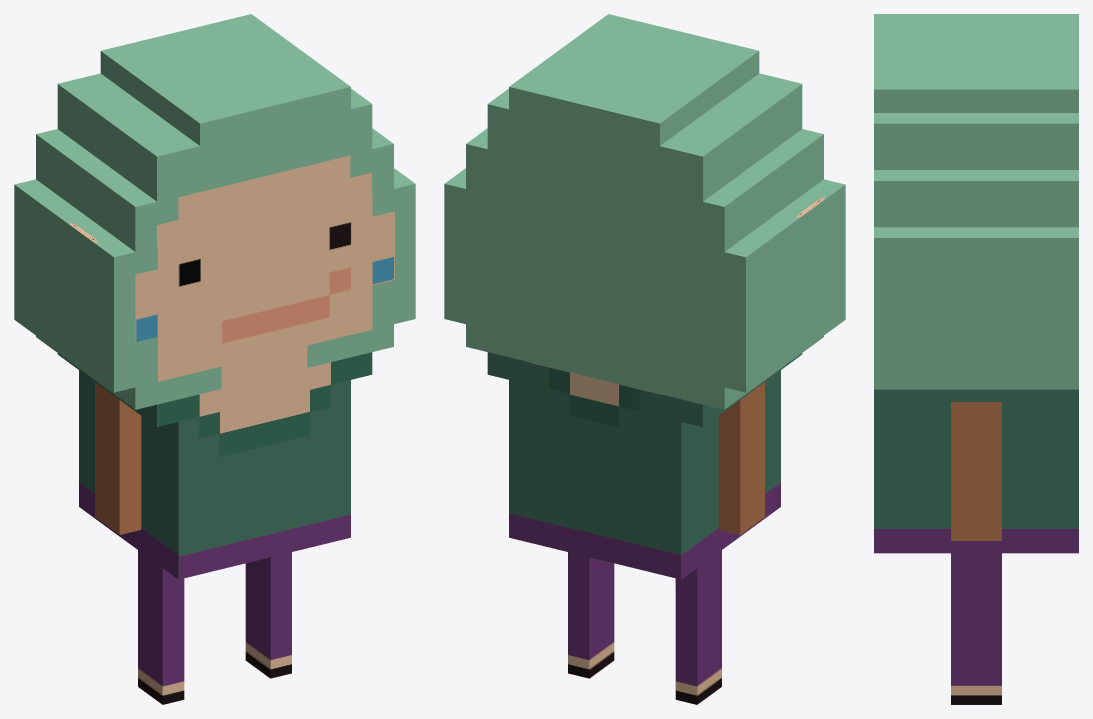
Rendered from avatar_import.obj.
3 views of the same model, side by side, from view 1: azimuth 30°, elevation 25°; view 2: azimuth 150°, elevation 25°; view 3: azimuth 270°, elevation 25° (orthographic). The views are drawn at different scales.
Visible parts, largest first — view 1: head_Plane, body_Plane.001, leg.r_Plane.002, arm.r_Plane.007, leg.l_Plane.005; view 2: head_Plane, body_Plane.001, leg.r_Plane.002, arm.r_Plane.007, leg.l_Plane.005; view 3: head_Plane, body_Plane.001, leg.l_Plane.005, arm.l_Plane.006.
Part boxes in pixels (x1,y1,x2,y2): head_Plane: (14, 14, 415, 409); body_Plane.001: (57, 352, 372, 579); leg.r_Plane.002: (138, 550, 184, 704); arm.r_Plane.007: (95, 382, 141, 534); leg.l_Plane.005: (245, 552, 291, 678); head_Plane: (444, 14, 845, 409); body_Plane.001: (487, 352, 802, 579); leg.r_Plane.002: (675, 550, 721, 704); arm.r_Plane.007: (718, 382, 764, 534); leg.l_Plane.005: (568, 552, 614, 678); head_Plane: (874, 14, 1078, 389); body_Plane.001: (874, 389, 1078, 553); leg.l_Plane.005: (951, 553, 1001, 704); arm.l_Plane.006: (951, 402, 1001, 540).
Bounding box in the file's own units: 0.1237 × 0.2385 × 0.0707.
Materials: 4 (3 with a texture image).
